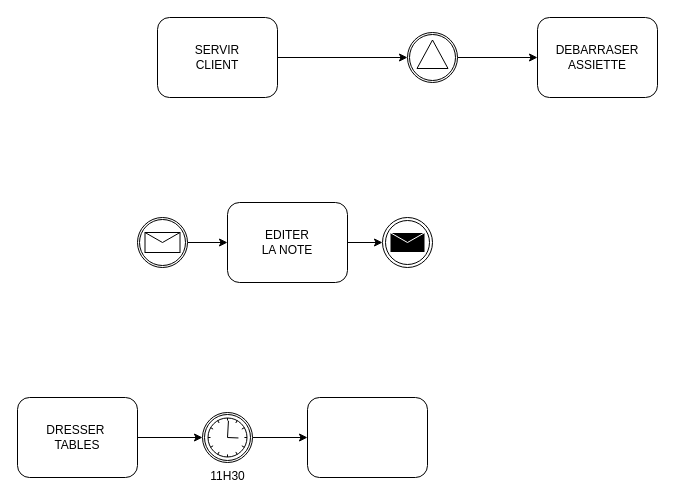
This 675x501 diagram has some shape labels left out. The centre of each missing label's shape, as x and y in pixels:
APPORT DE LA NOTE: [407,242]
DEMANDE DE NOTE: [162,242]
OUVRIR PORTES: [367,437]
